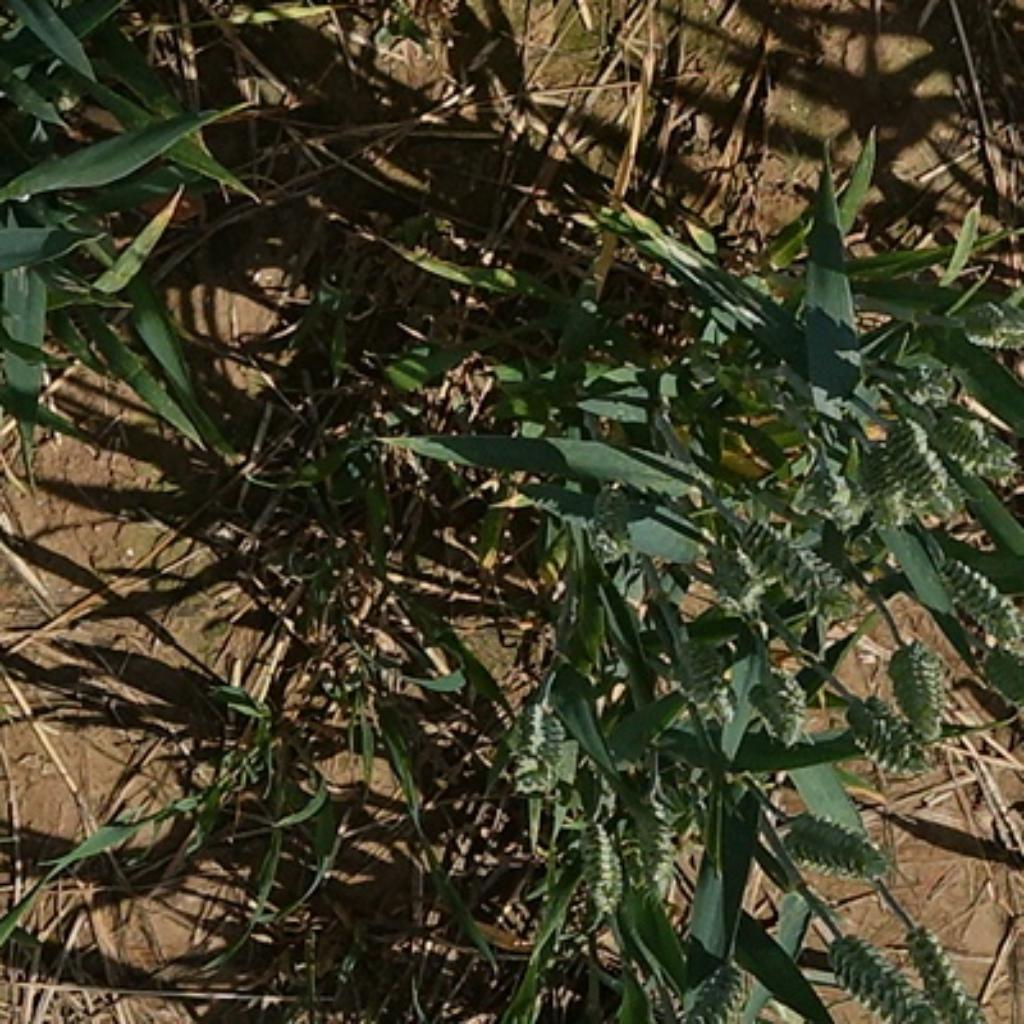0-0: (701, 506, 847, 624), (821, 929, 942, 1024), (611, 778, 696, 908), (928, 551, 1023, 649), (573, 481, 660, 581), (499, 683, 578, 793), (778, 796, 885, 875), (909, 916, 986, 1024), (936, 409, 1024, 501), (724, 642, 811, 734), (837, 691, 929, 778), (878, 634, 952, 734), (665, 957, 775, 1024), (890, 409, 952, 527), (573, 808, 637, 921), (663, 622, 734, 711), (857, 440, 924, 527), (950, 286, 1024, 360), (897, 352, 967, 412), (796, 458, 855, 529)
